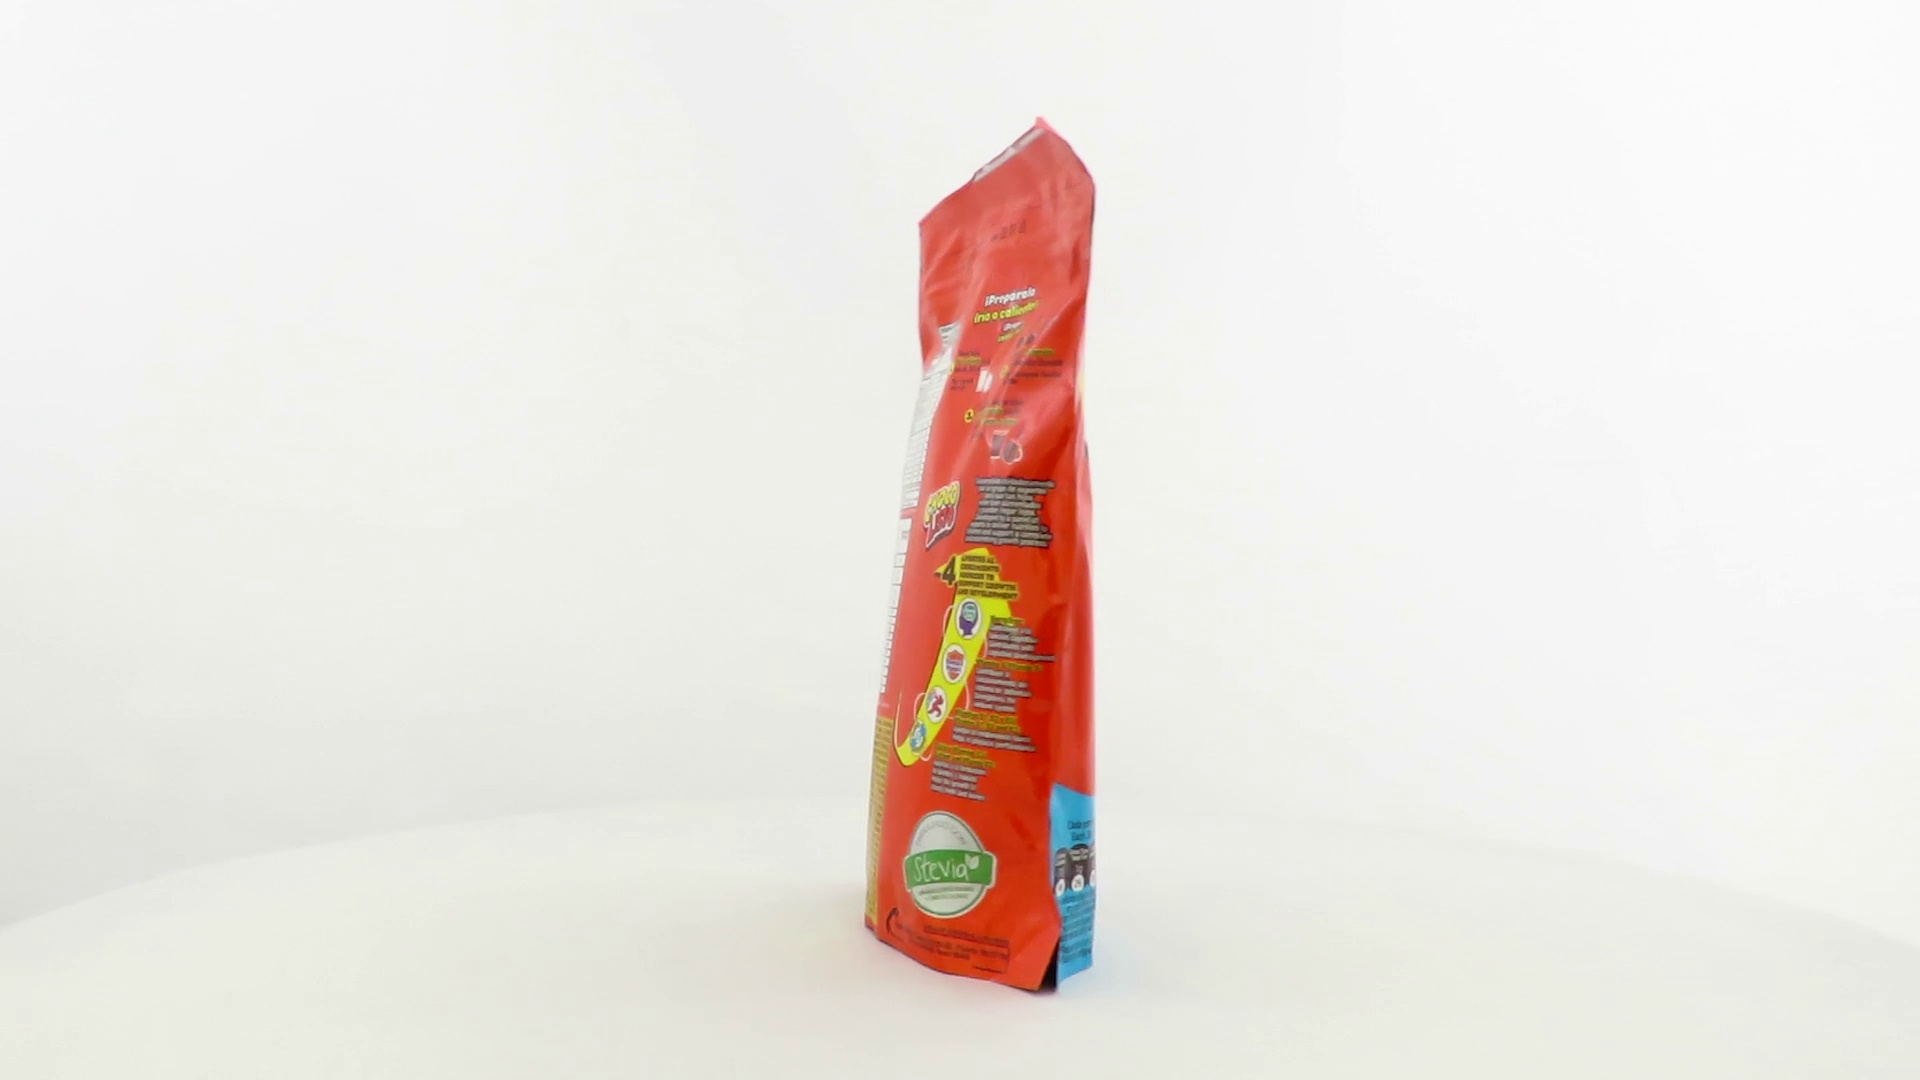COL0170104DYP20000: (858, 111, 1102, 1001)
